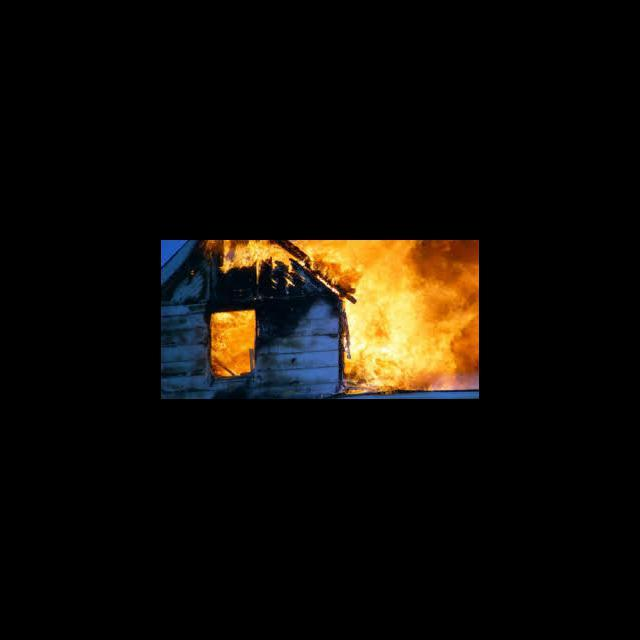Fire: (334, 272, 478, 396), (220, 240, 478, 272), (210, 308, 254, 377)
